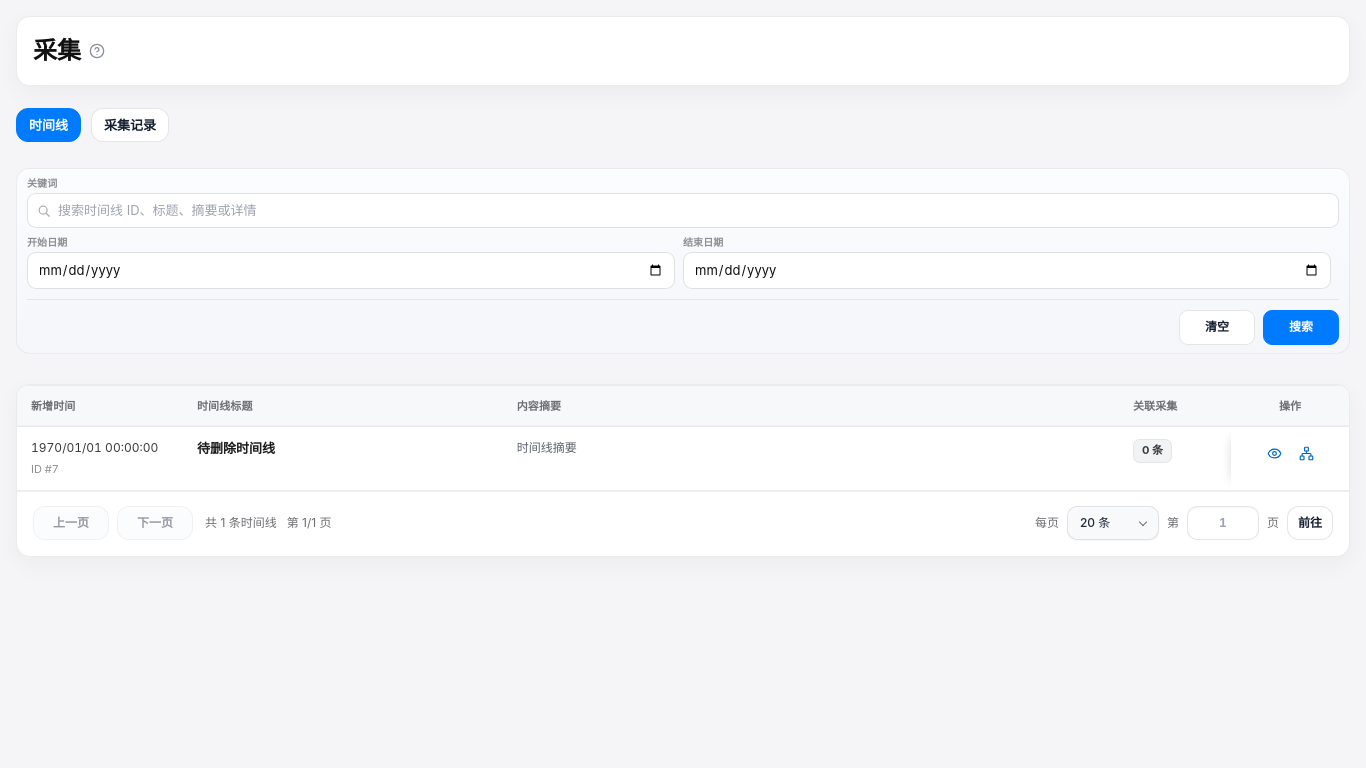
Scenario: 采集与时间线删除 › 确认后删除时间线并刷新当前列表
The image size is (1366, 768).
Expected: the text "待删除时间线" is shown, [197,440,275,456]
Click the button named "查看时间线：待删除时间线".
click(1274, 453)  # box [1260,439,1288,467]
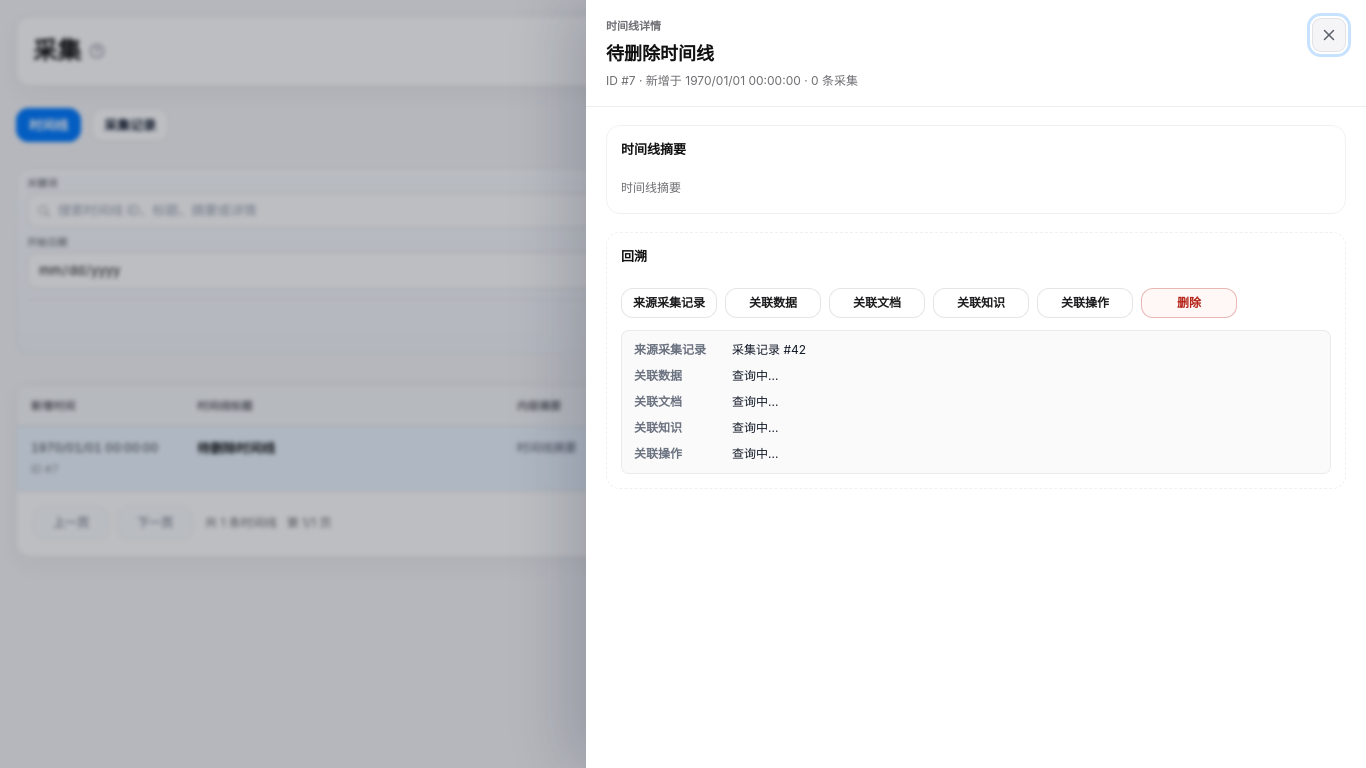
Click the button "删除".
click(1189, 303)  # box [1141,288,1237,318]
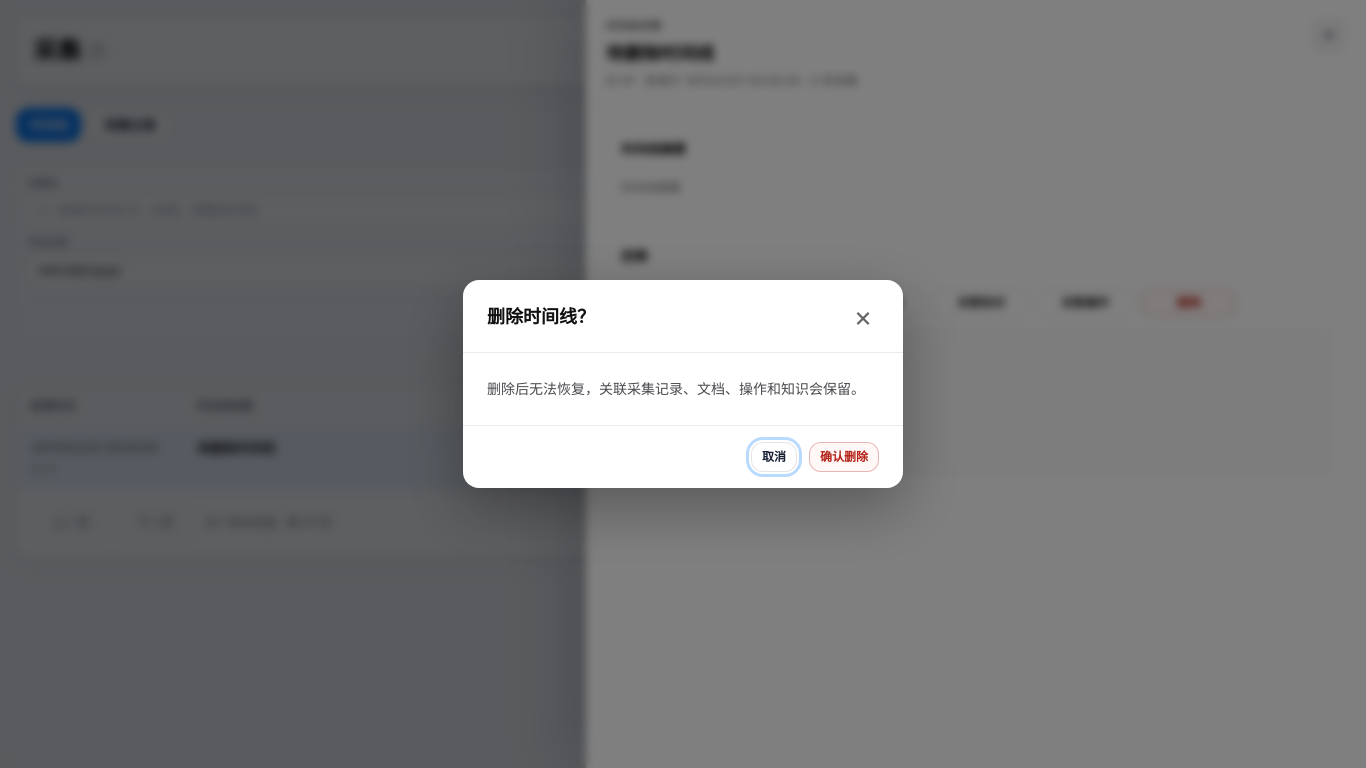
Now the dialog "删除时间线？" is shown, box [463,280,903,488]
Click the button "确认删除".
click(844, 457)  # box [809,442,879,472]
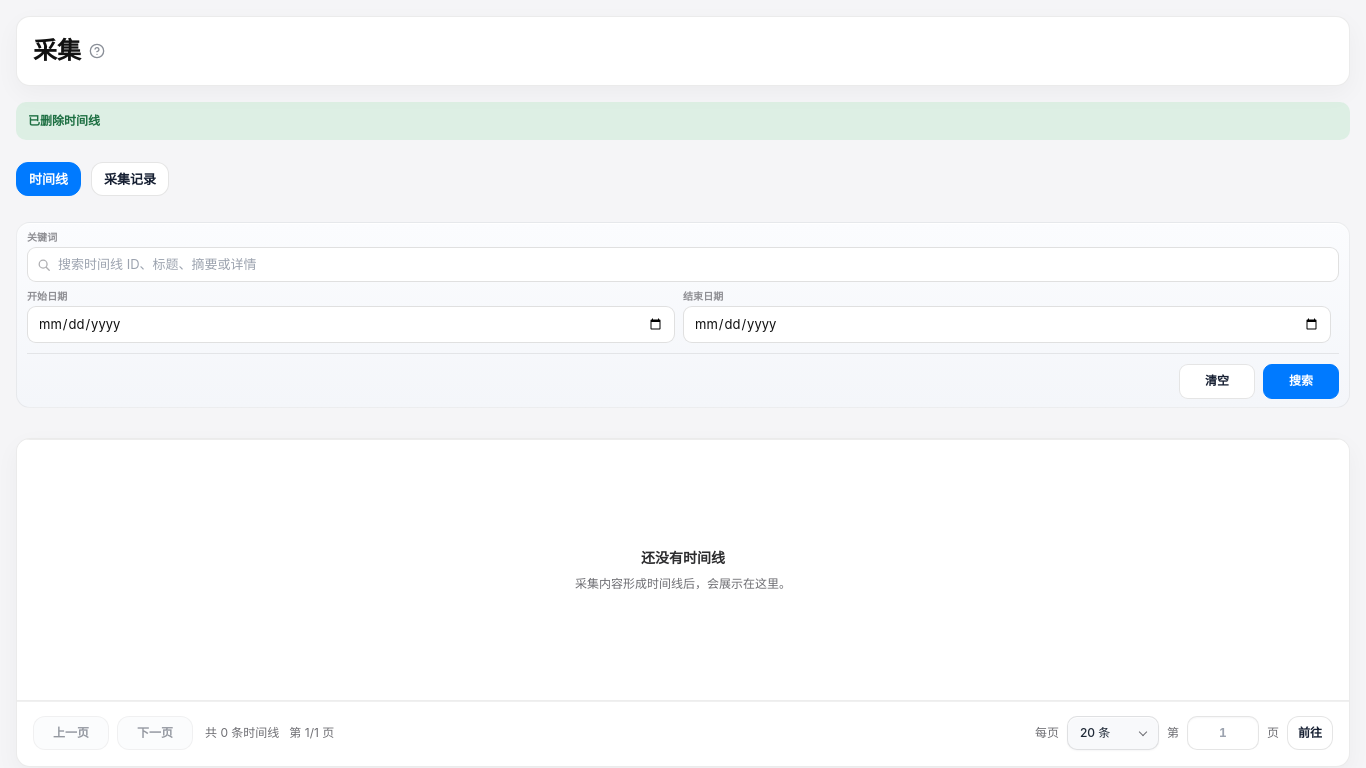
Now the text "已删除时间线" is shown, box [16,102,1350,140]
Now the text "还没有时间线" is shown, box [641,547,725,568]
